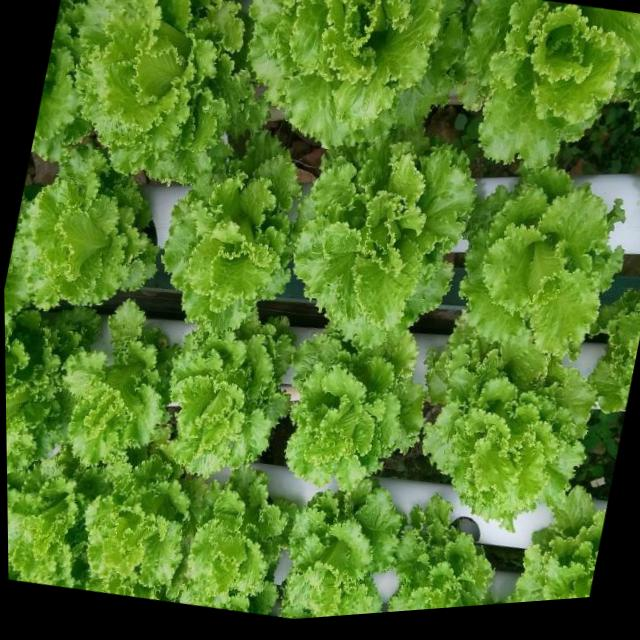Mature: (37, 0, 273, 179), (295, 130, 477, 343), (422, 318, 595, 529), (252, 0, 468, 141), (457, 0, 640, 163), (462, 181, 626, 361), (4, 143, 161, 306), (164, 141, 303, 325), (286, 319, 427, 485), (166, 461, 298, 615), (172, 318, 297, 472), (279, 475, 404, 619), (66, 294, 165, 458), (5, 299, 103, 463), (85, 451, 190, 600), (488, 485, 605, 604), (386, 493, 493, 612), (7, 450, 84, 587)
